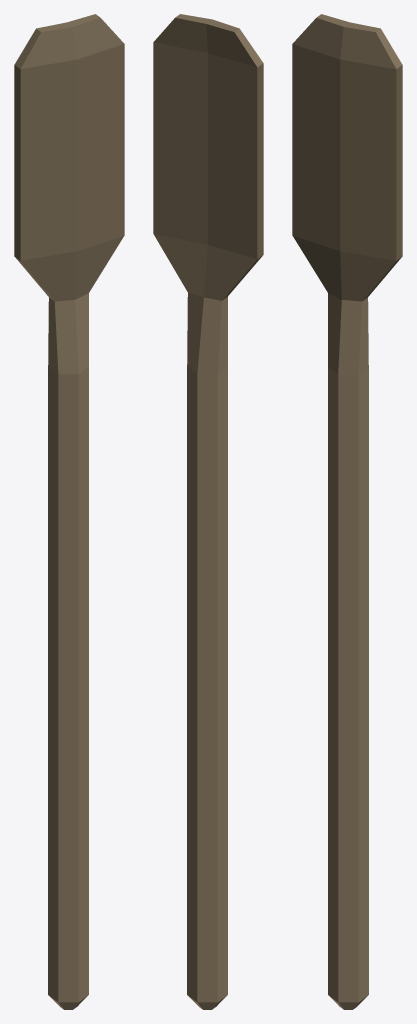
The model's file is Paddle.fbx.
3 renders of one model, left to right at view 1: azimuth 30°, elevation 25°; view 2: azimuth 150°, elevation 25°; view 3: azimuth 330°, elevation 25°, orthographic.
Visible parts, largest first — view 1: Paddle; view 2: Paddle; view 3: Paddle.
Boxes of the visible parts, left/top/right/bottom form: Paddle: left=14, top=14, right=124, bottom=1009; Paddle: left=153, top=14, right=263, bottom=1009; Paddle: left=292, top=14, right=402, bottom=1009.
Bounding box in the file's own units: 21.85 × 197 × 7.46.
